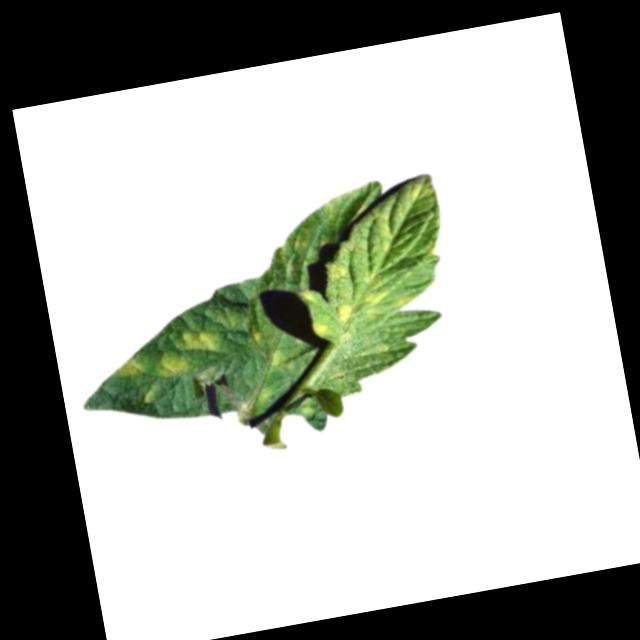Leaf_Mold: (321, 248, 418, 332), (148, 322, 221, 379), (105, 355, 138, 383), (305, 312, 330, 339)
